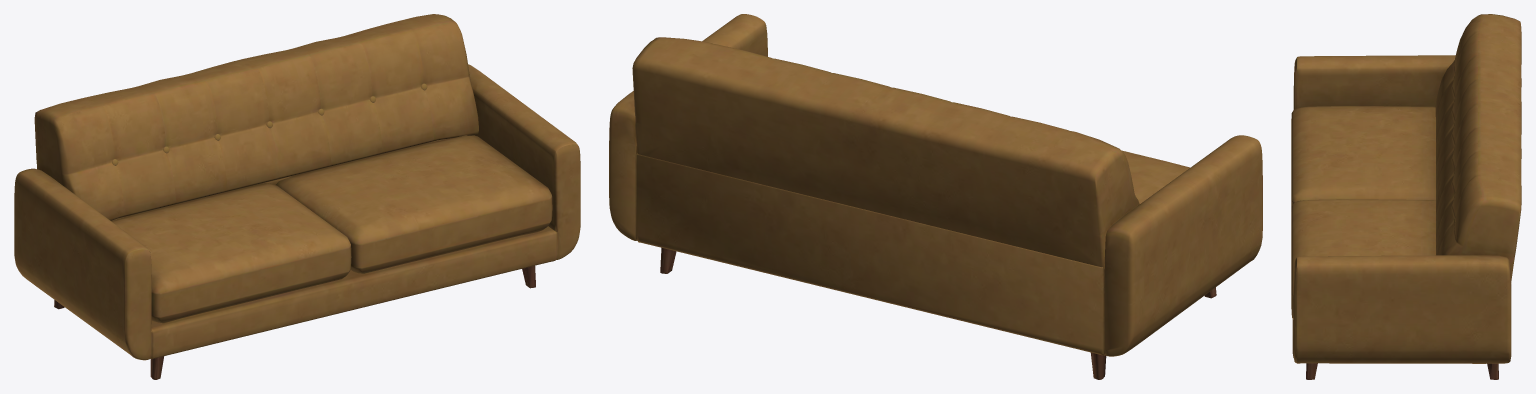
Rendered from B07P5LKKMW.glb.
3 renders of one model, left to right at view 1: azimuth 30°, elevation 25°; view 2: azimuth 150°, elevation 25°; view 3: azimuth 270°, elevation 25°, orthographic. The views are drawn at different scales.
Visible parts, largest first — view 1: RootNode; view 2: RootNode; view 3: RootNode.
Part boxes in pixels (bbox=[...]): RootNode: bbox=[14, 14, 580, 379]; RootNode: bbox=[609, 14, 1262, 379]; RootNode: bbox=[1291, 14, 1521, 379].
Size of the model in its own units: 2.14 by 0.8915 by 0.9805.
1 material, 1 textured.
